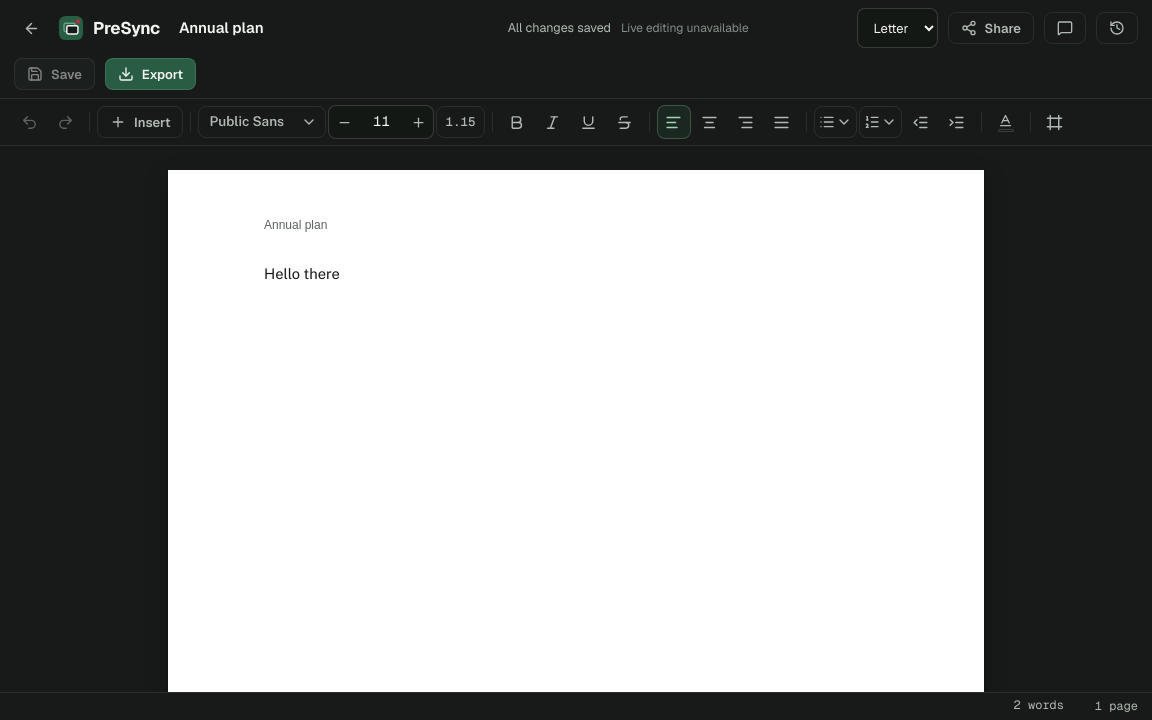
Test: DocumentEditorPage › applies formatting and saves it with the Save button
Expected: the field named "Document title" is shown, [170, 10, 498, 46]
What coordinates should you click on to do the following:
click the button named "Bold"
I would click on:
 (516, 122)
Its box is [500, 105, 534, 139].
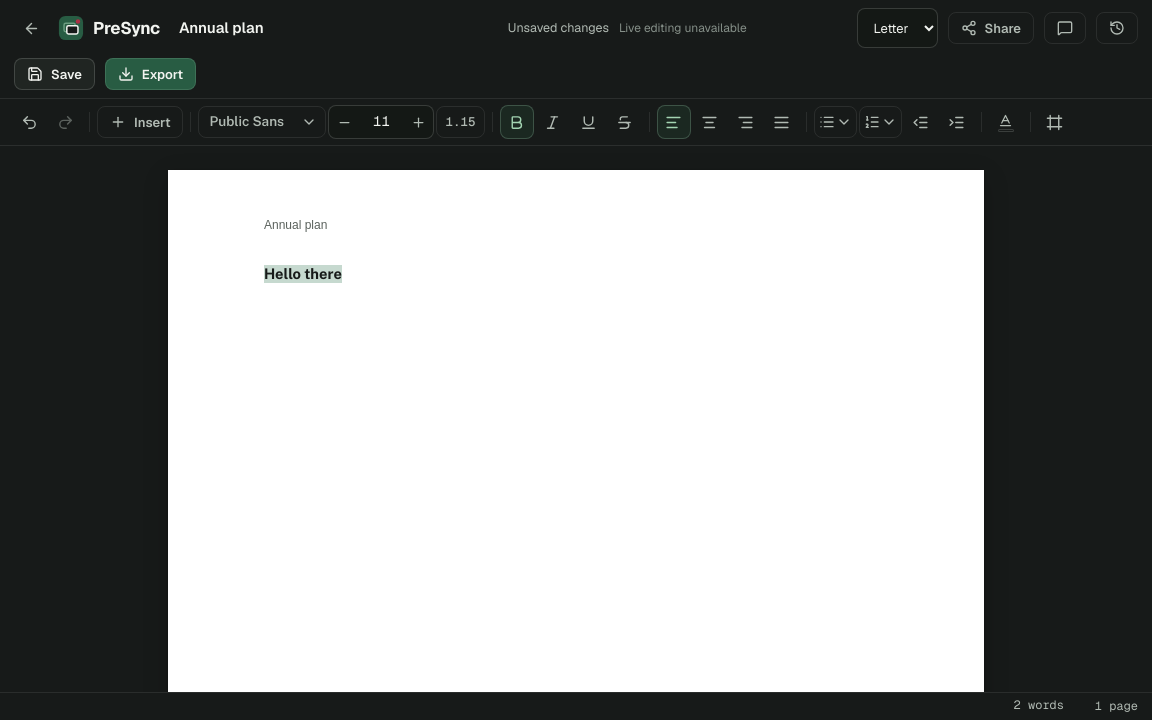
Expected: the message reads "Unsaved changes", [508, 19, 609, 36]
What coordinates should you click on to do the following:
click the button "Save"
I would click on:
 (54, 74)
Its box is [14, 58, 95, 90].
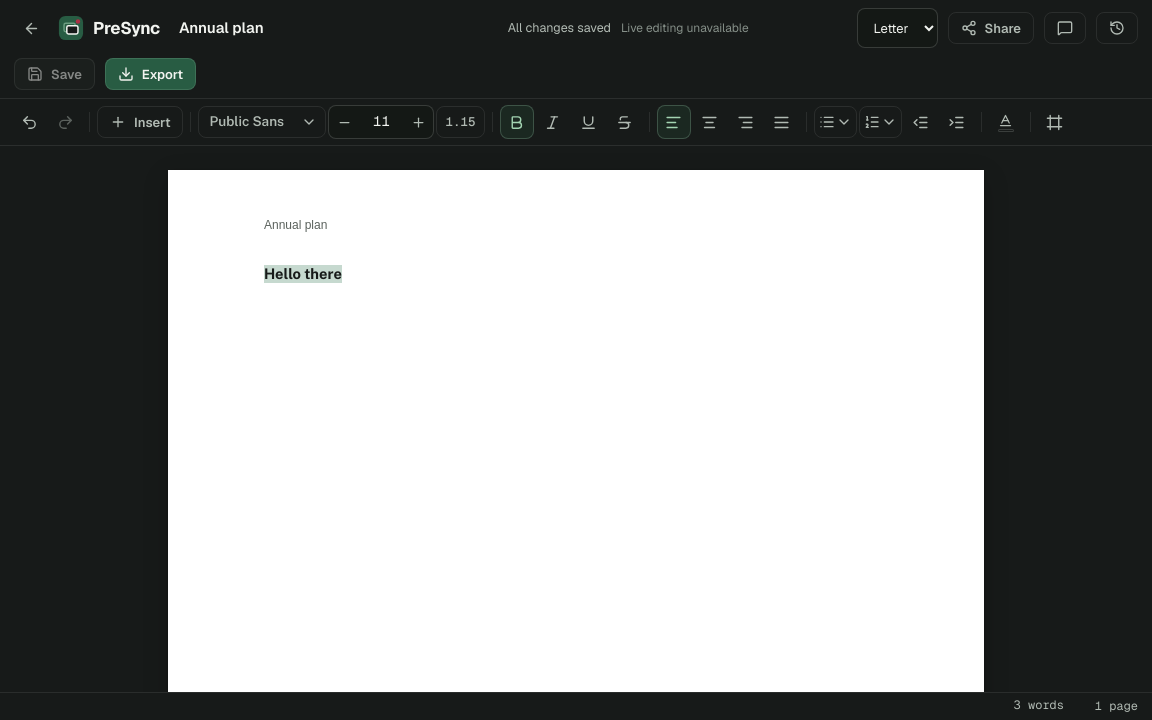
Expected: the text "All changes saved" is shown, [508, 18, 611, 38]
Expected: the text "3 words" is shown, [1014, 696, 1064, 715]
